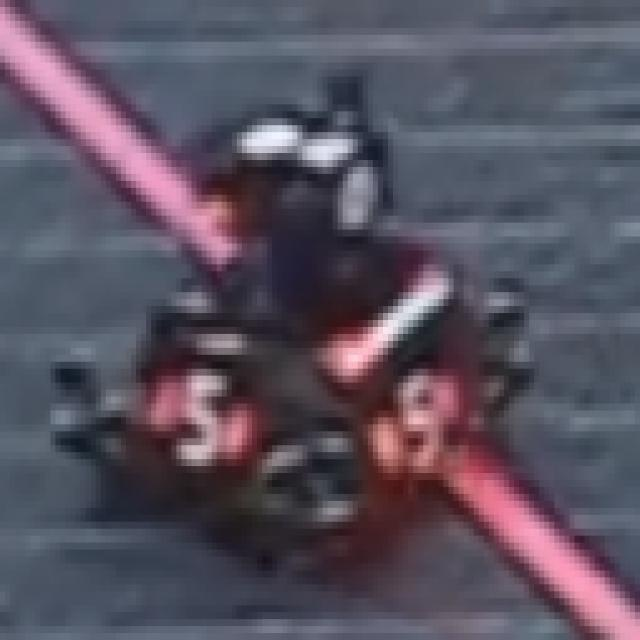R5: (141, 355, 262, 466), (368, 355, 474, 480)
